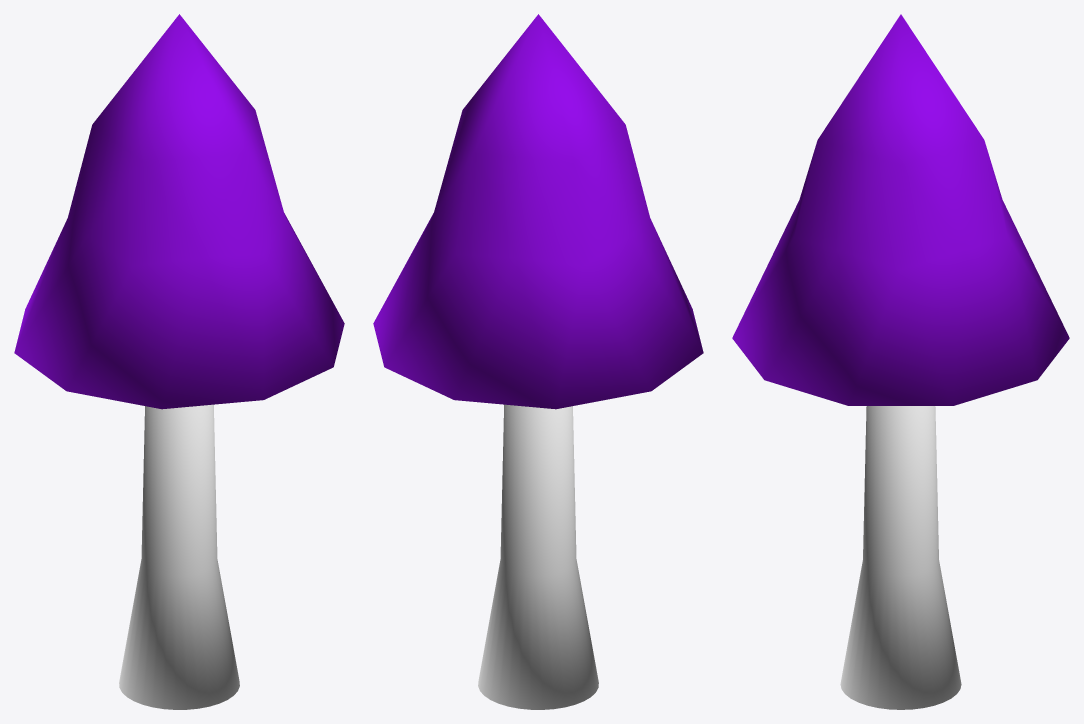
Rendered from purple_mushroom.glb.
The picture shows the model from 3 angles, left to right: view 1: azimuth 30°, elevation 25°; view 2: azimuth 150°, elevation 25°; view 3: azimuth 270°, elevation 25°; orthographic projection.
Visible parts, largest first — view 1: Icosphere, Cylinder; view 2: Icosphere, Cylinder; view 3: Icosphere, Cylinder.
Part boxes in pixels (x1=…): Icosphere: x1=14, y1=14, x2=344, y2=409; Cylinder: x1=119, y1=404, x2=239, y2=709; Icosphere: x1=373, y1=14, x2=703, y2=409; Cylinder: x1=478, y1=404, x2=598, y2=709; Icosphere: x1=732, y1=14, x2=1069, y2=405; Cylinder: x1=840, y1=406, x2=961, y2=709.
Size of the model in its own units: 3.97 by 9.14 by 4.17.
